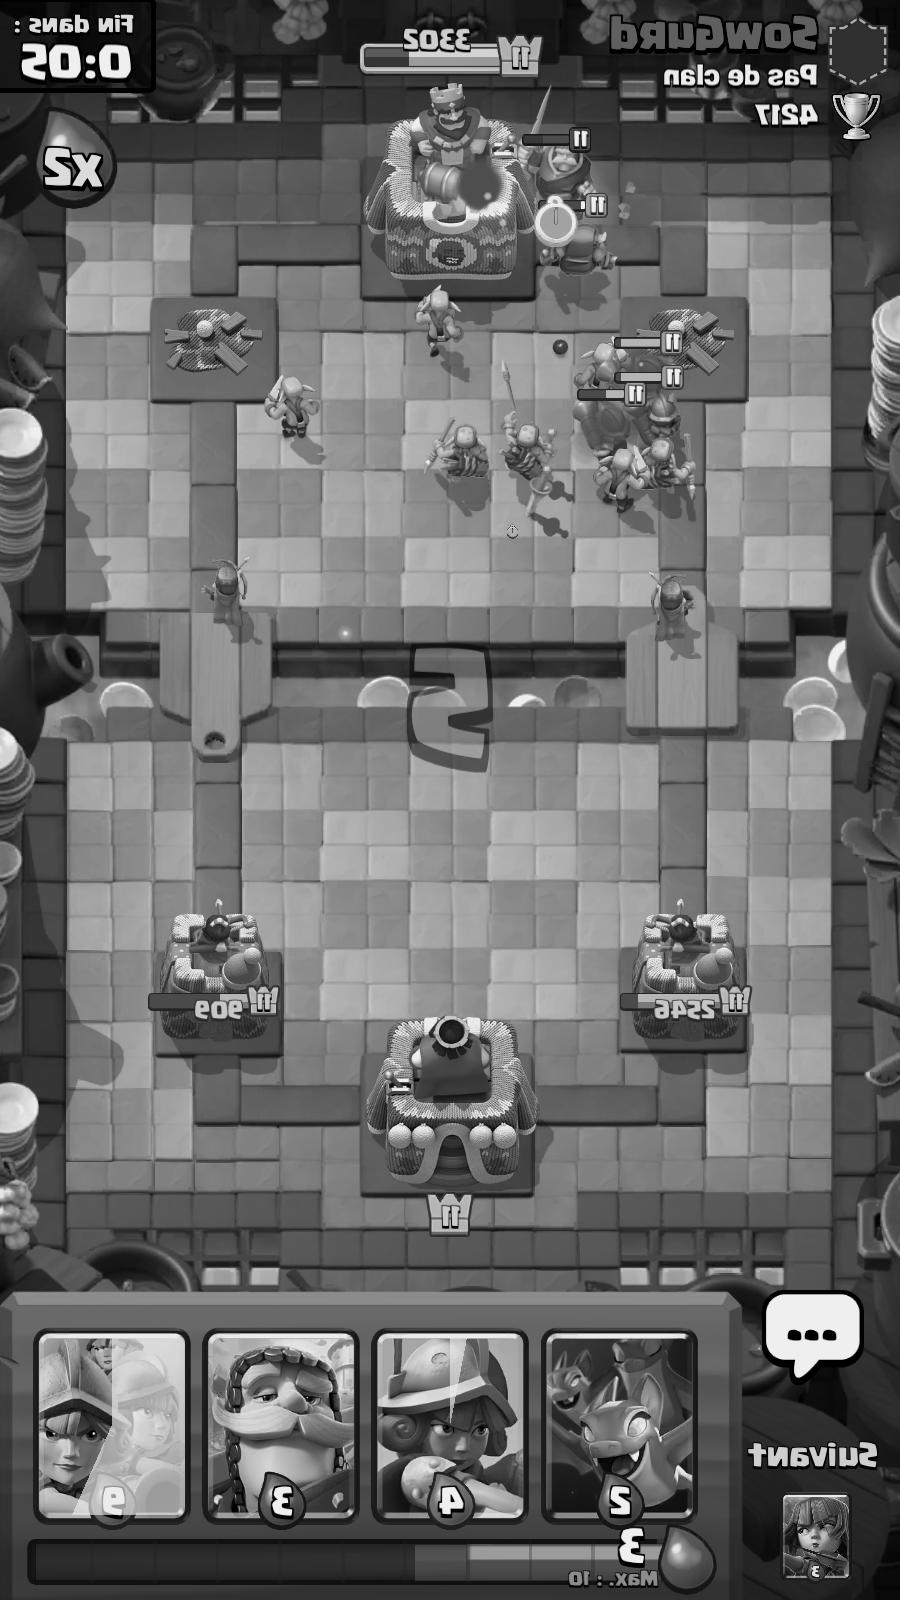archere: (201, 553, 254, 627), (648, 570, 695, 643)
chevalier: (525, 130, 590, 214)
gobelin: (258, 378, 325, 446), (412, 280, 462, 363), (593, 448, 651, 511), (573, 340, 622, 399)
gobelin_lances: (423, 416, 488, 484), (493, 420, 558, 487), (644, 437, 691, 496)
mini_PEKKA: (544, 193, 613, 279)
mousquetaire: (573, 385, 636, 462), (615, 337, 682, 400), (625, 370, 680, 444)
